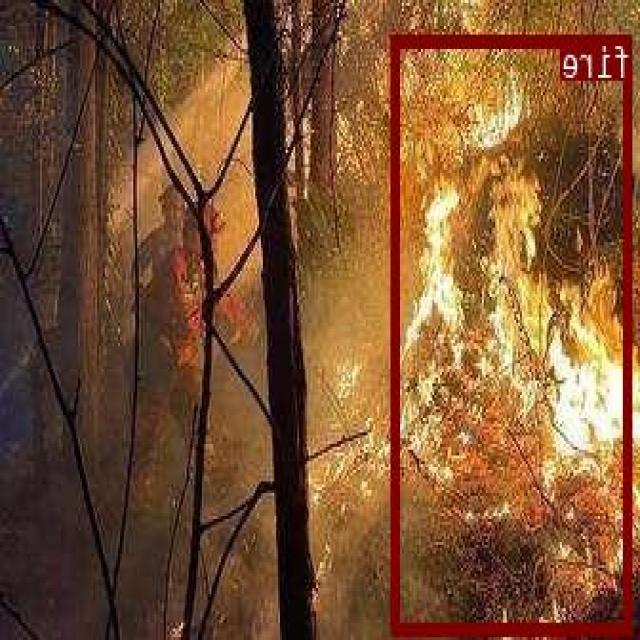fire: (394, 32, 633, 633)
